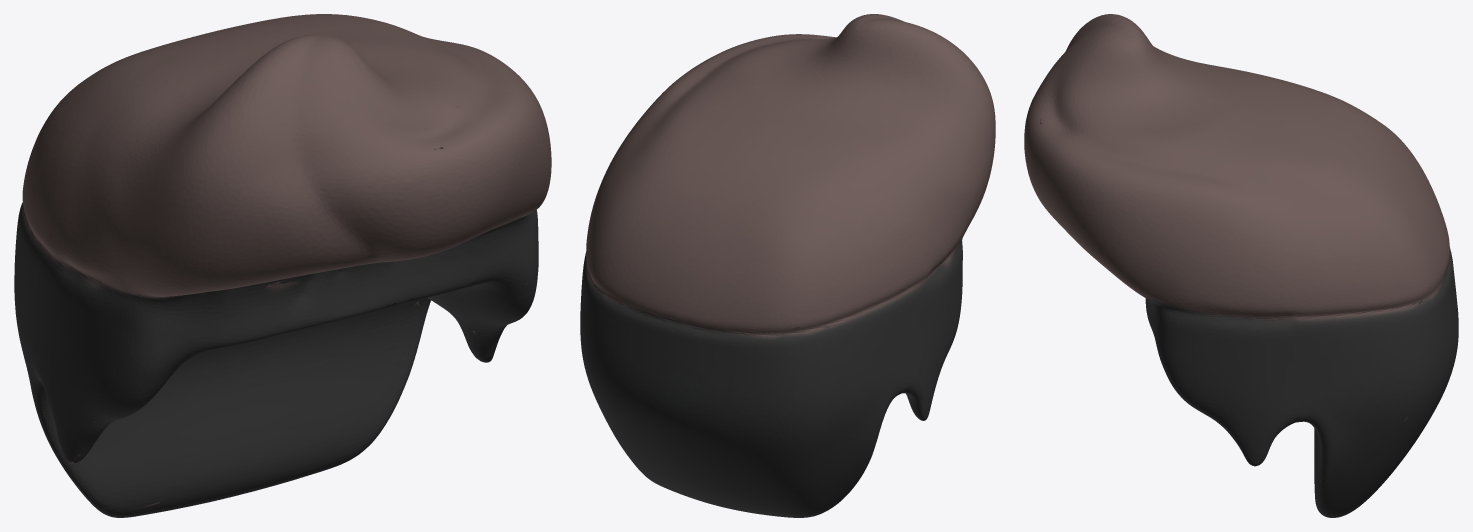
File: Male_Hair_1_6.glb
3 renders of one model, left to right at view 1: azimuth 30°, elevation 25°; view 2: azimuth 150°, elevation 25°; view 3: azimuth 270°, elevation 25°, orthographic. The views are drawn at different scales.
Visible parts, largest first — view 1: Plane.042; view 2: Plane.042; view 3: Plane.042.
Boxes of the visible parts, x1,y1,x2,y2 form: Plane.042: (14, 14, 551, 517); Plane.042: (580, 14, 995, 517); Plane.042: (1024, 14, 1458, 517).
Bounding box in the file's own units: 35.72 × 44.54 × 40.3.
1 material, 1 textured.
